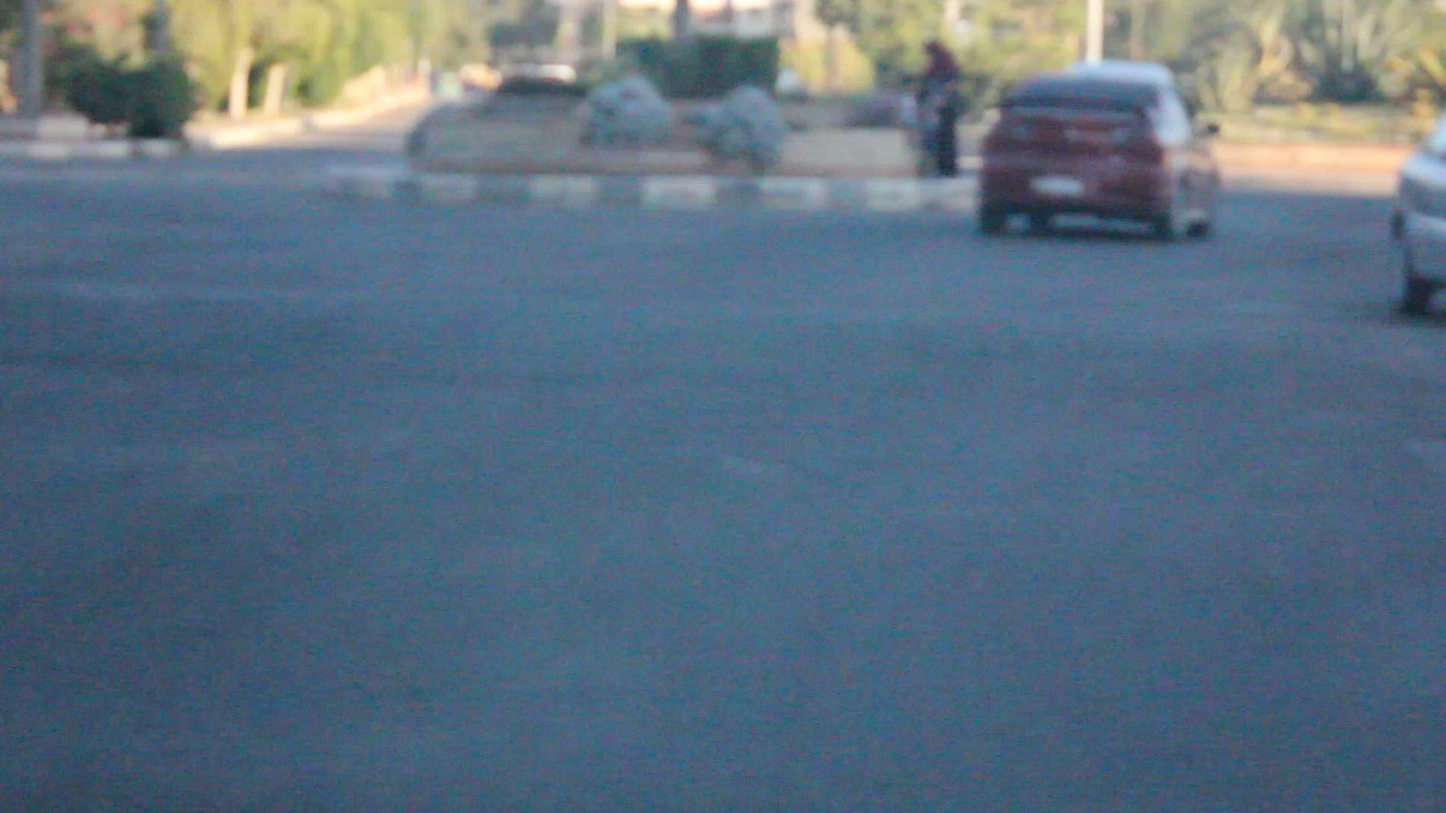Bump: (2, 250, 1446, 440)
